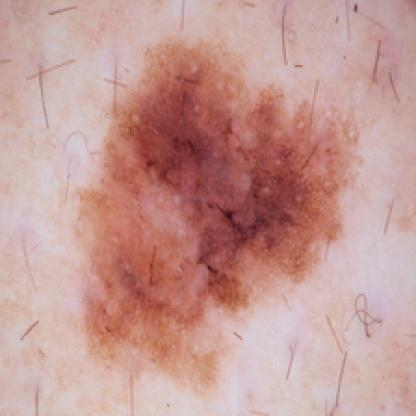benign: (108, 37, 344, 342)
